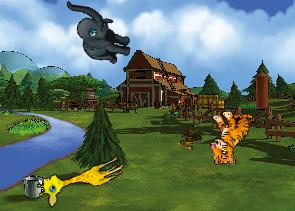elephant: (59, 0, 136, 65)
giraffe: (33, 144, 127, 210)
tiger: (207, 108, 255, 165)
